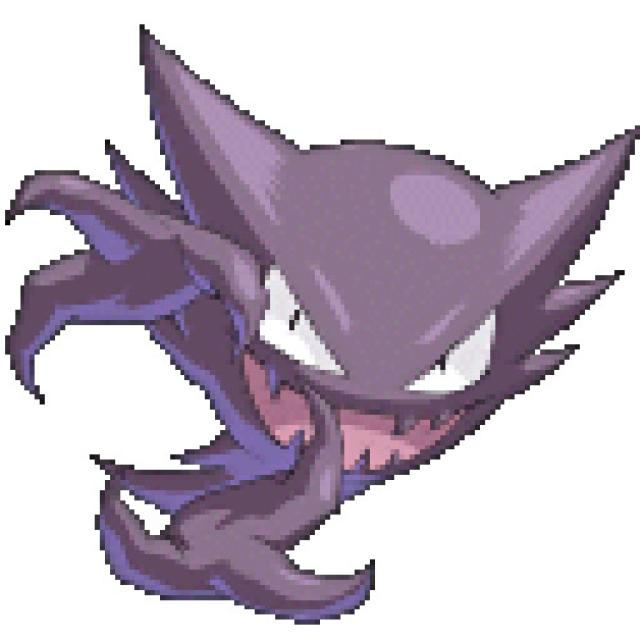Haunter: (11, 16, 503, 615)
